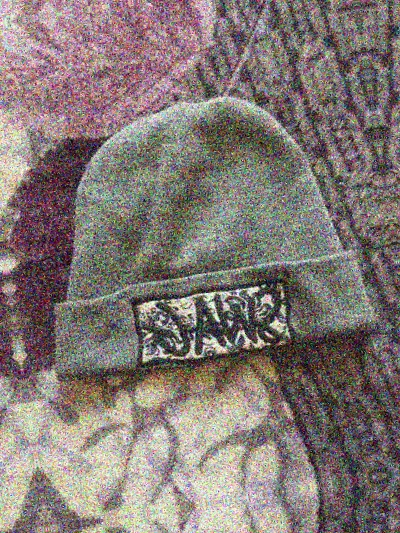Hat: (5, 67, 370, 414), (0, 124, 6, 472)
